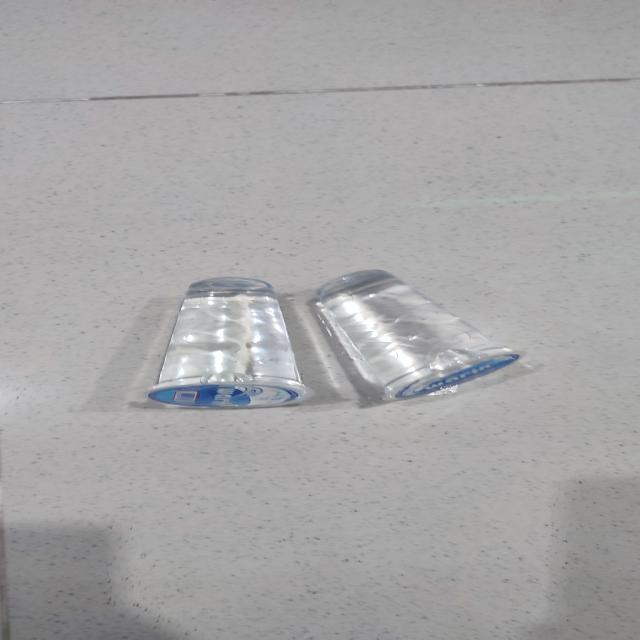air gelas: (305, 263, 536, 404), (133, 270, 326, 419)
